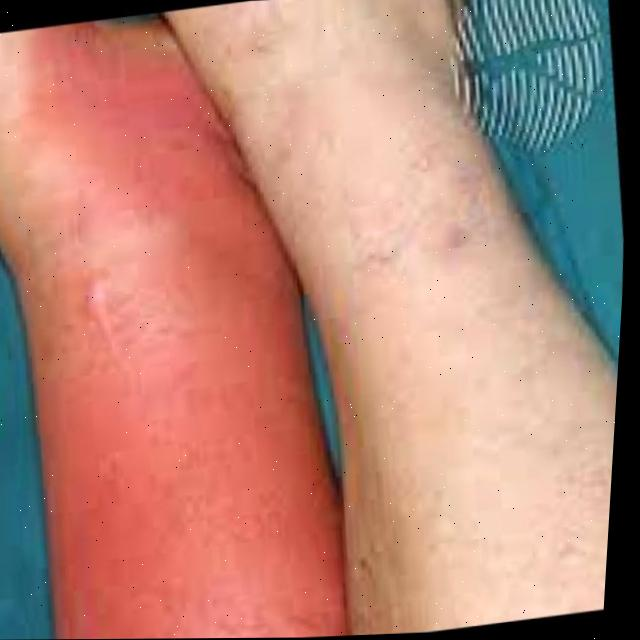Eczema: (95, 64, 273, 639)
